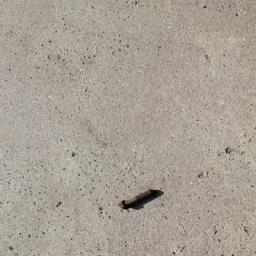FOD: (118, 188, 166, 215)
